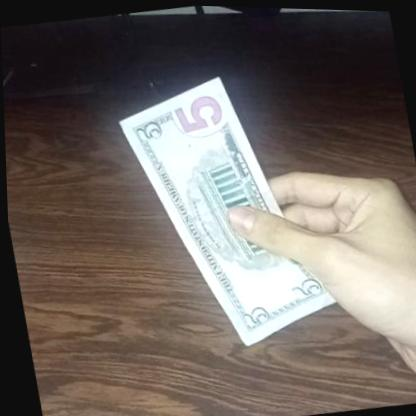five-back: (109, 59, 346, 362)
